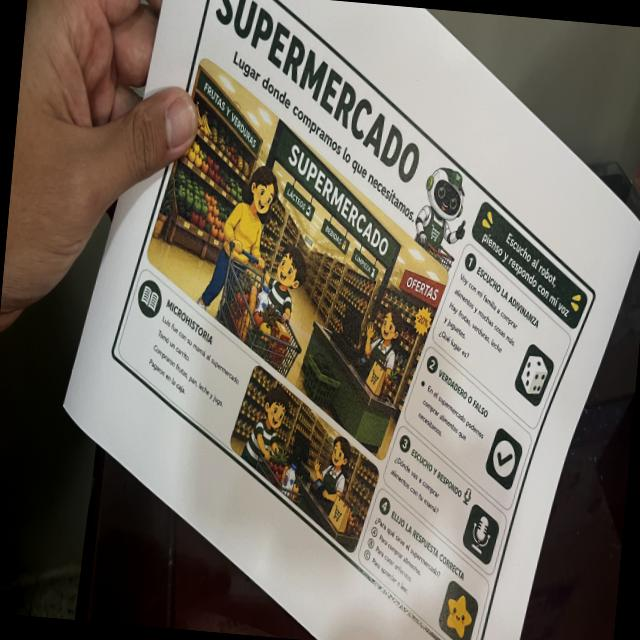supermercado: (84, 0, 622, 640)
